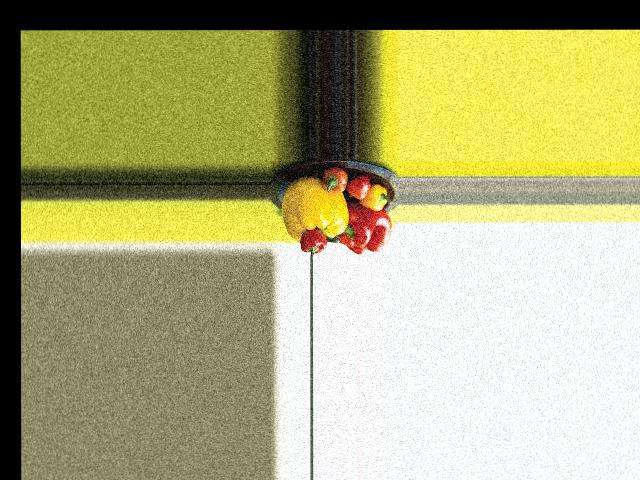bell_pepper: (362, 185, 390, 211)
